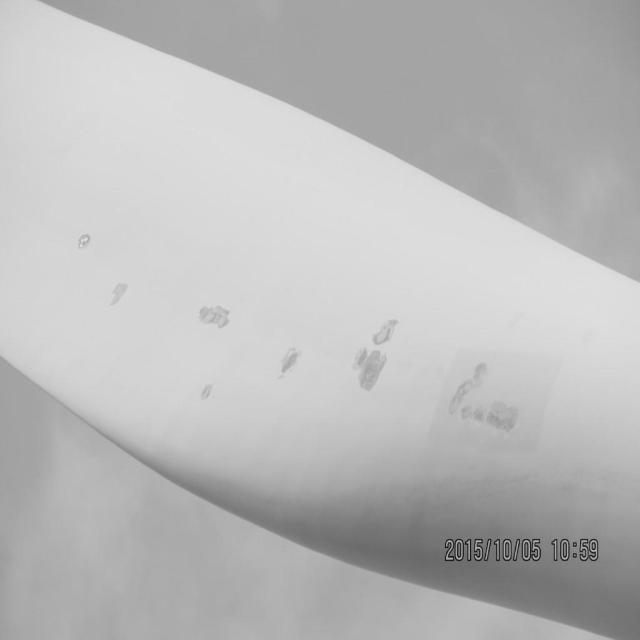surface_peeling: (447, 362, 518, 436), (350, 316, 396, 391), (196, 300, 232, 329), (106, 279, 132, 307), (278, 348, 300, 377), (197, 379, 214, 399)
